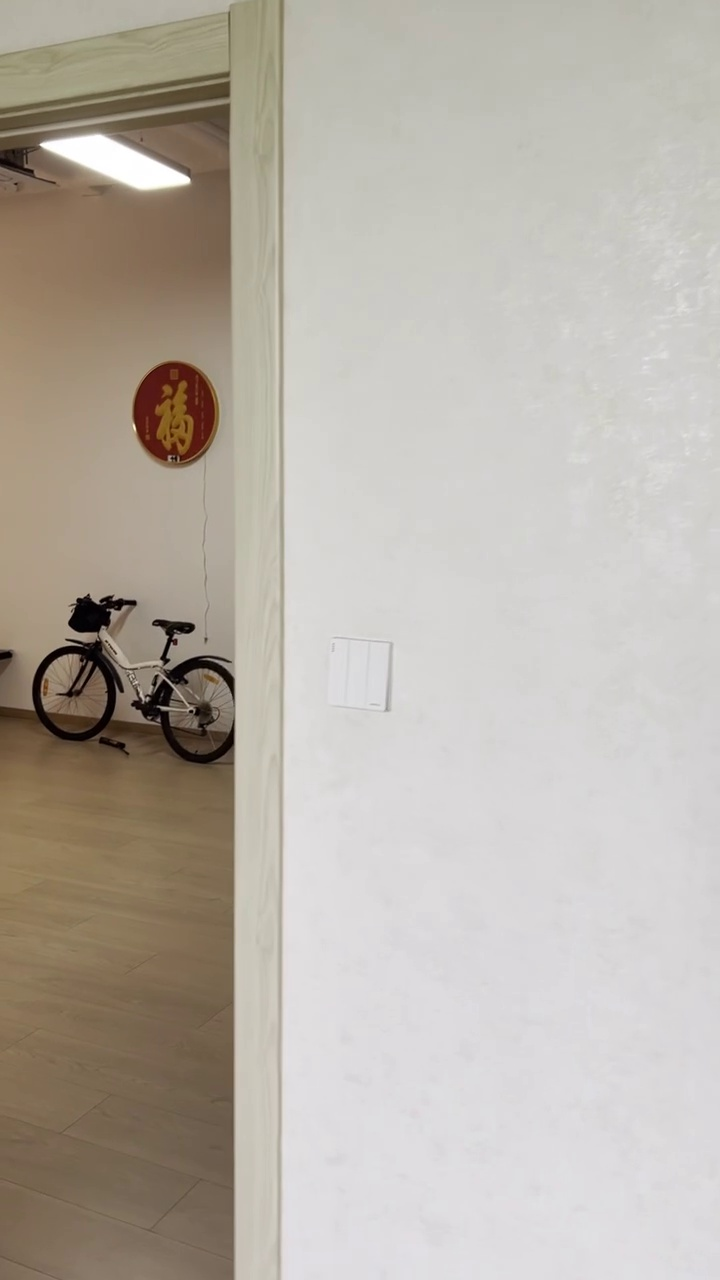button: (325, 635, 397, 714)
